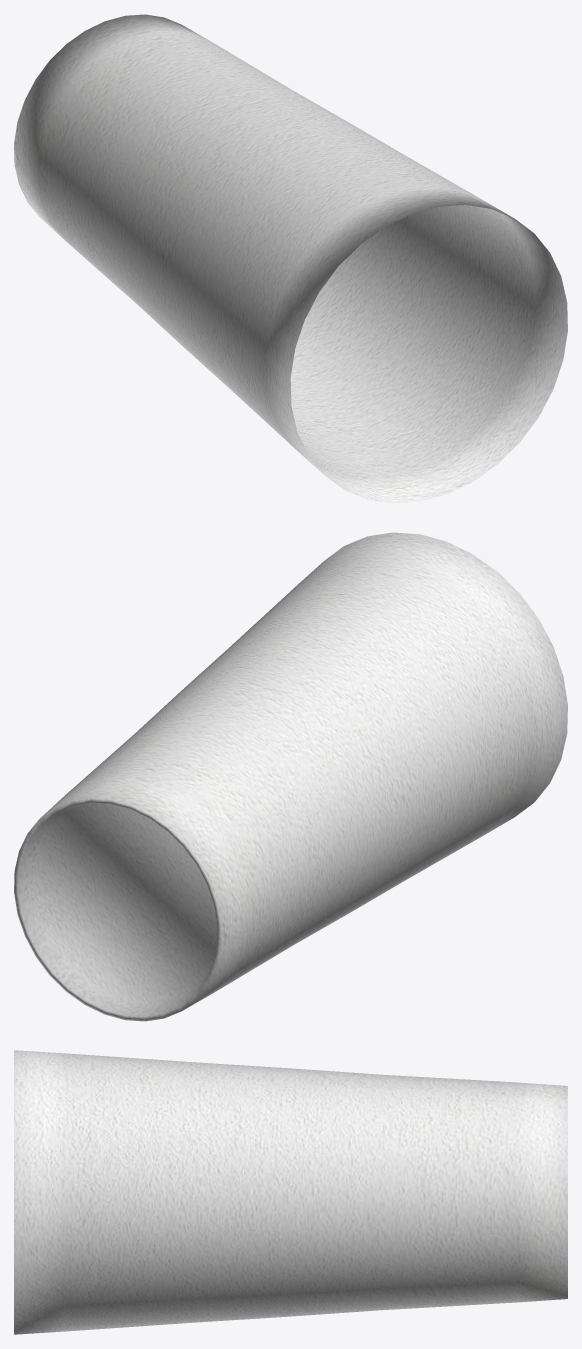
3 renders of one model, top to bottom at view 1: azimuth 30°, elevation 25°; view 2: azimuth 150°, elevation 25°; view 3: azimuth 270°, elevation 25°, orthographic. The views are drawn at different scales.
Size of the model in its own units: 0.4341 by 0.4341 by 0.8447.
1 material, 1 textured.
